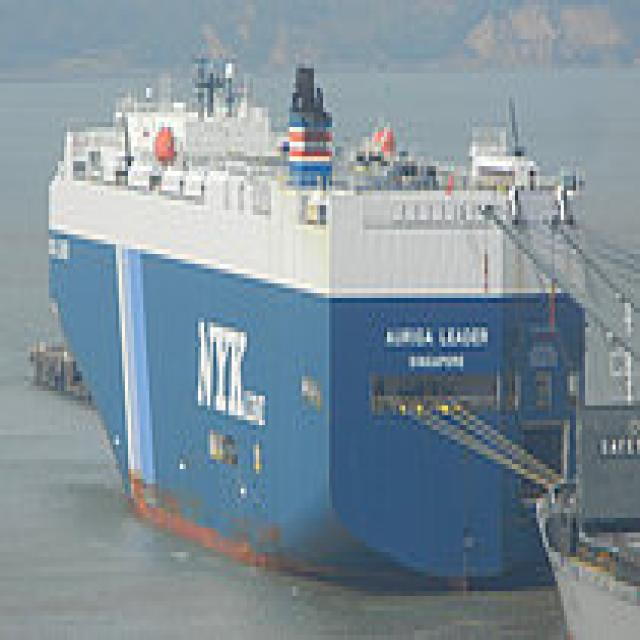Carrier: (40, 39, 588, 591)
